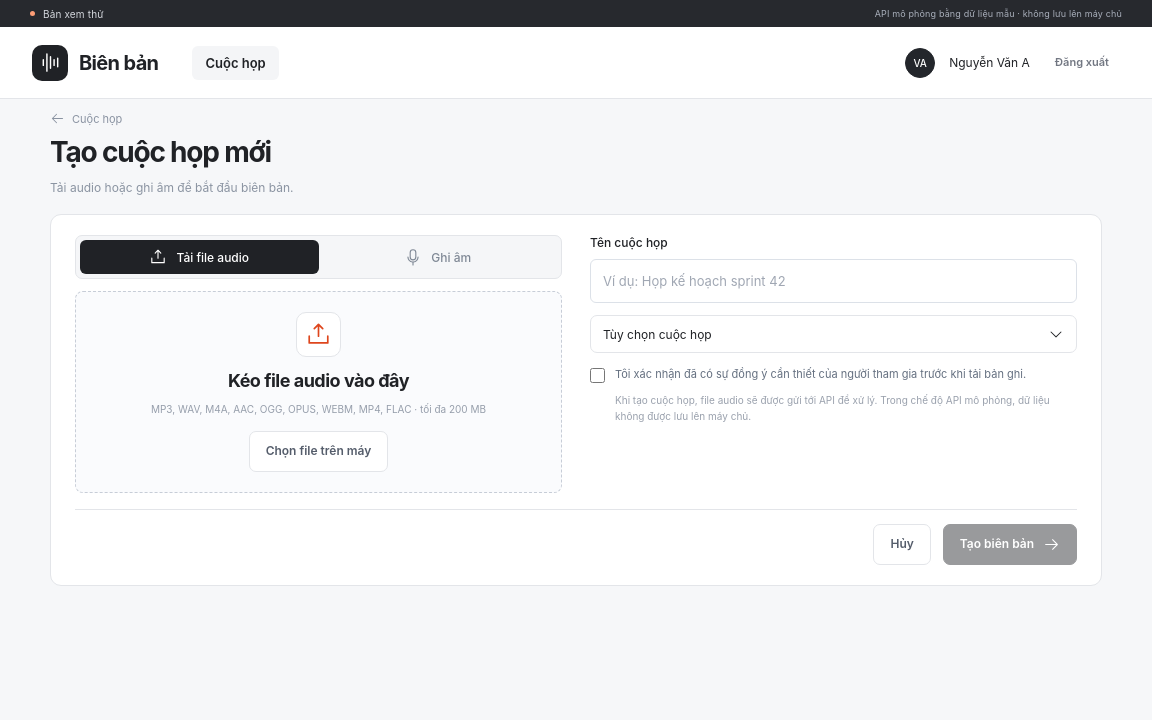
Test case: meeting workspace › does not request microphone on page load or switching recording mode
Click the button "Ghi âm": click(438, 257) [318, 240, 557, 274]
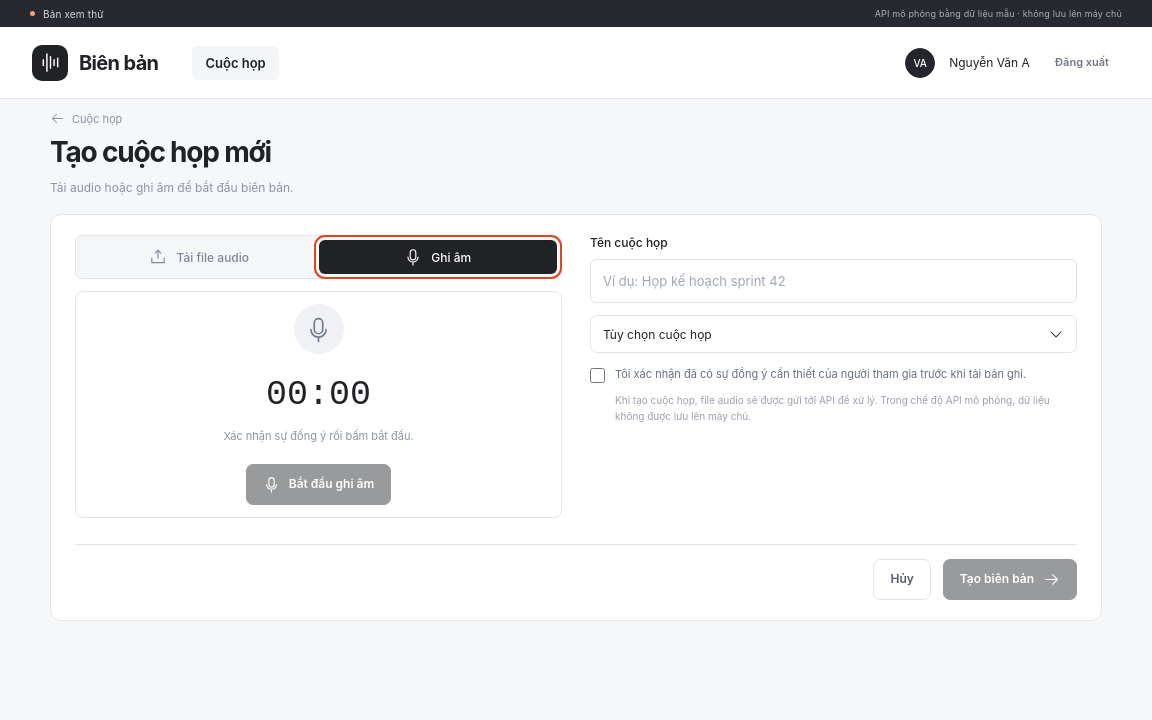
Check: the button "Bắt đầu ghi âm" is disabled, box [246, 464, 391, 505]
